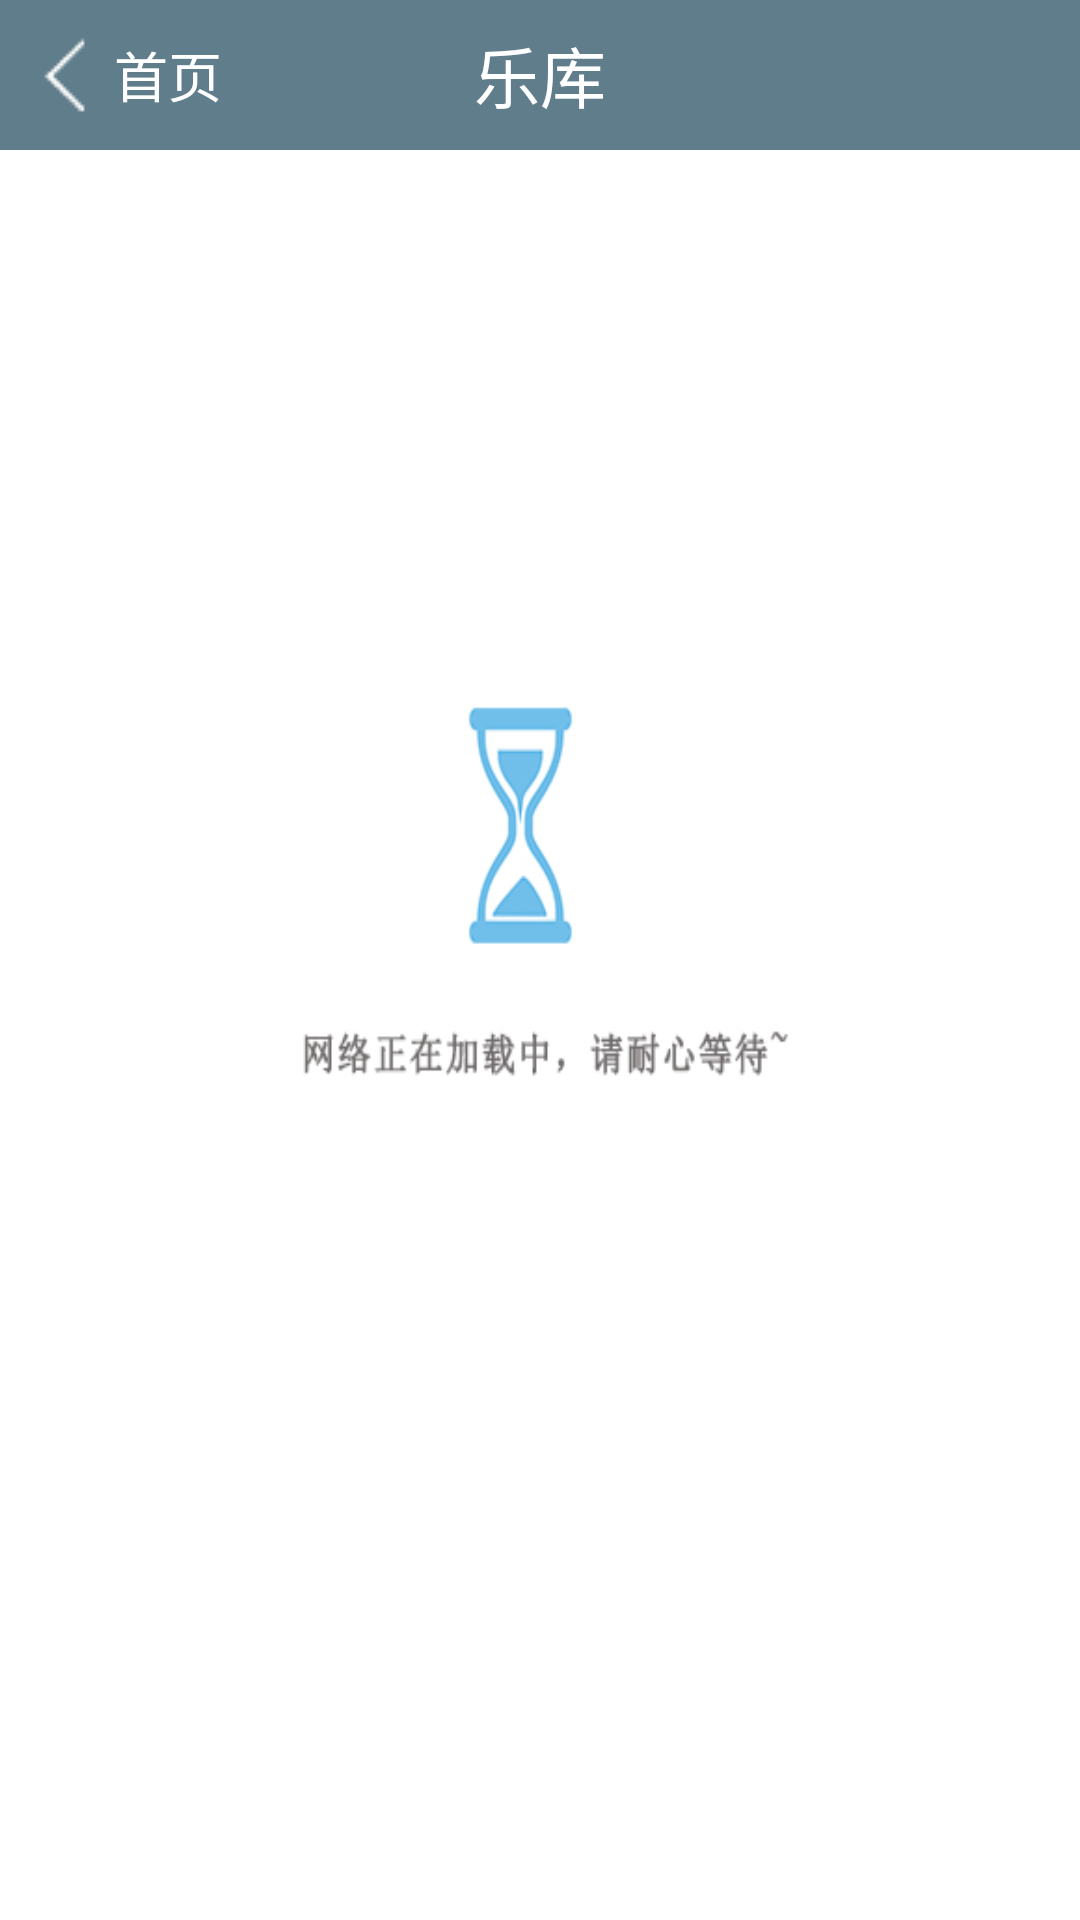

Named icons in this screenshot (1080 x 1920) and their centers, point (x, y):
back: point (64, 75)
